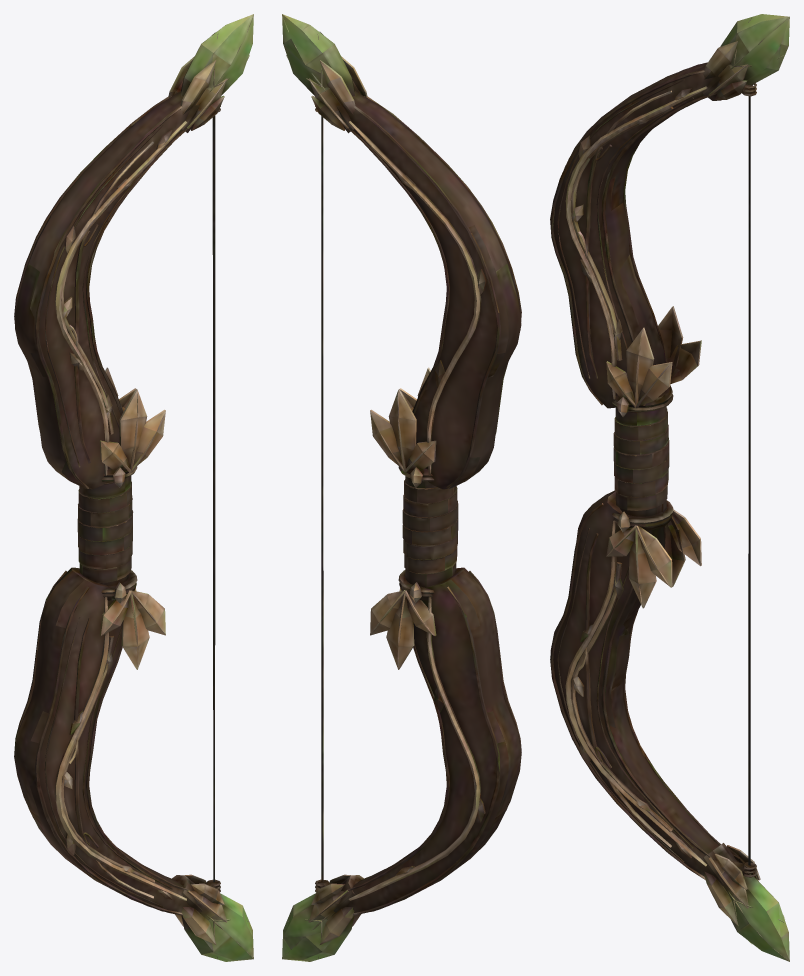
Rendered from bow_weapon.glb.
3 renders of one model, left to right at view 1: azimuth 30°, elevation 25°; view 2: azimuth 150°, elevation 25°; view 3: azimuth 330°, elevation 25°, orthographic.
Size of the model in its own units: 0.5163 by 2 by 0.1424.
1 material, 1 textured.
